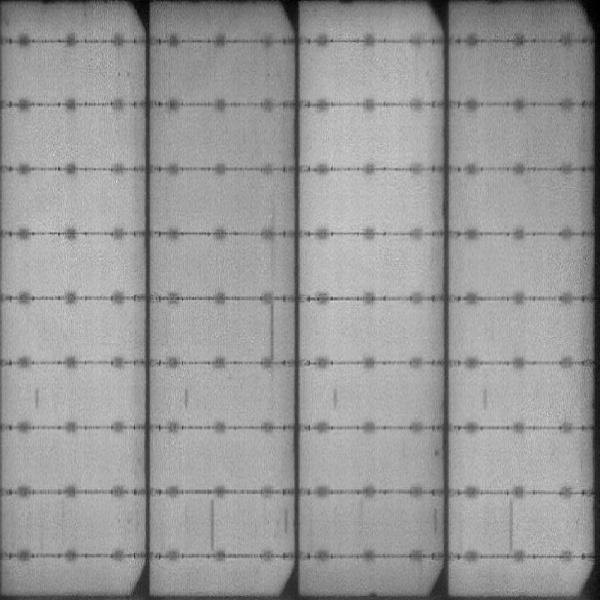scratch: (265, 305, 277, 370), (507, 503, 519, 552), (209, 498, 218, 551)
